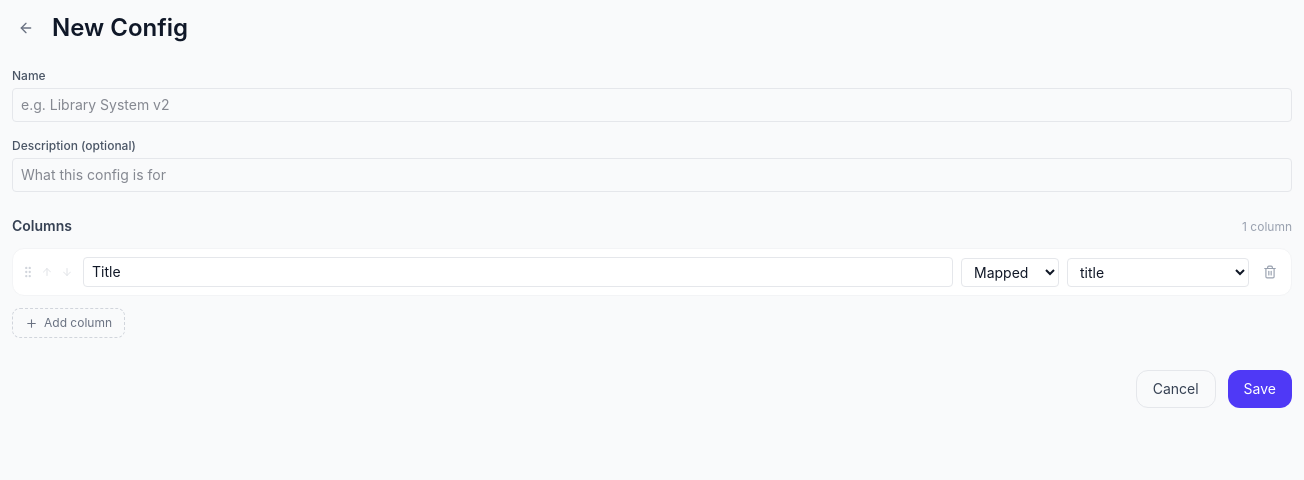
ConfigEditor — create mode › rejects save when name collides with an existing config
Type "dishari" into the field labelled "Name" at (652, 105), box [12,88,1292,122]
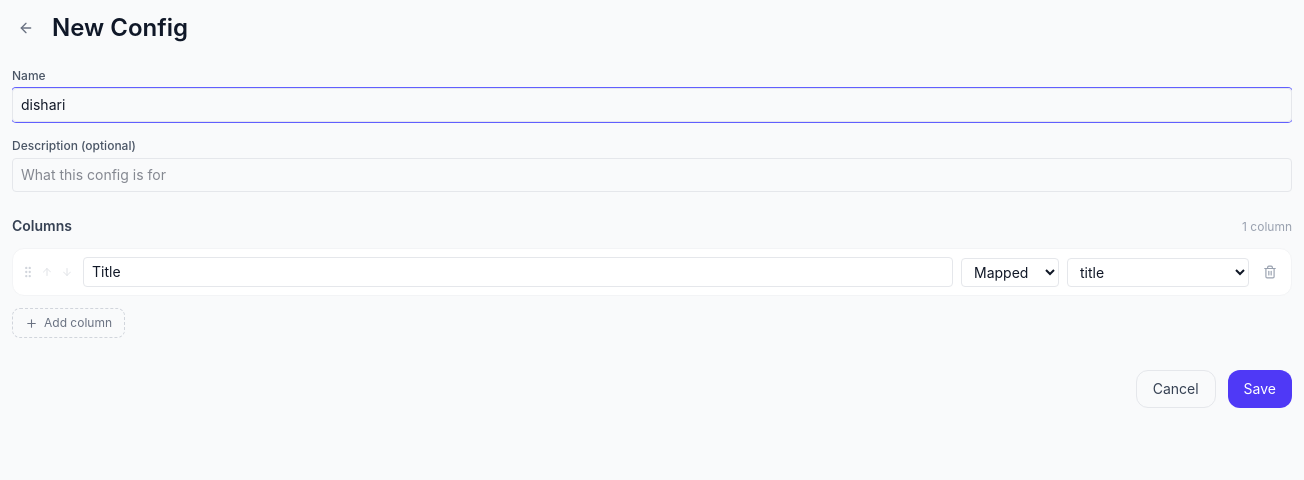
Click the button "Save" at (1260, 389), box [1228,370,1292,408]
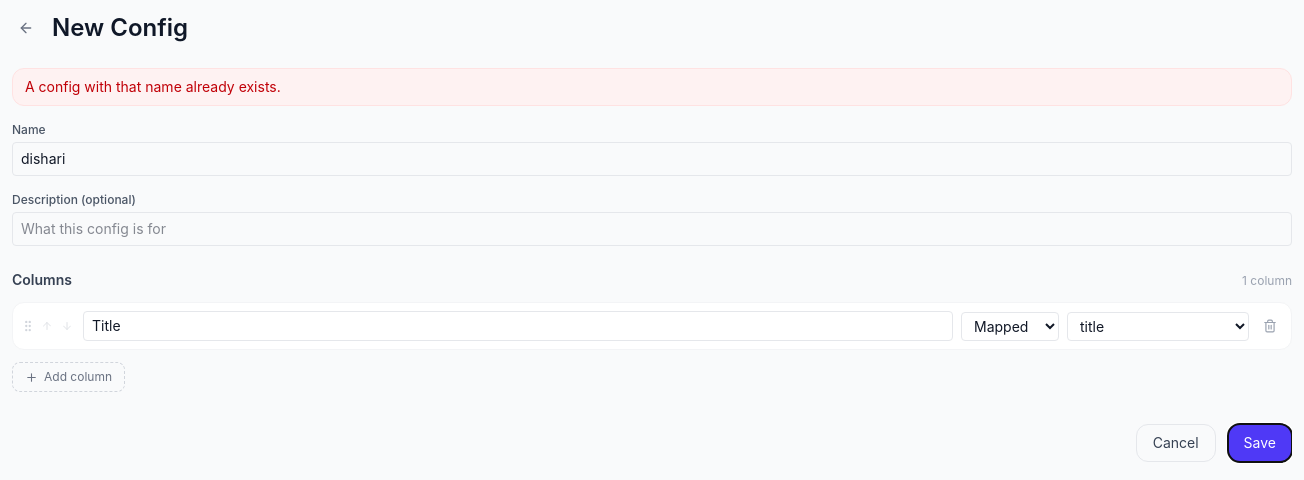
Result: the text "A config with that name already exists." is shown at [12,68,1292,106]
